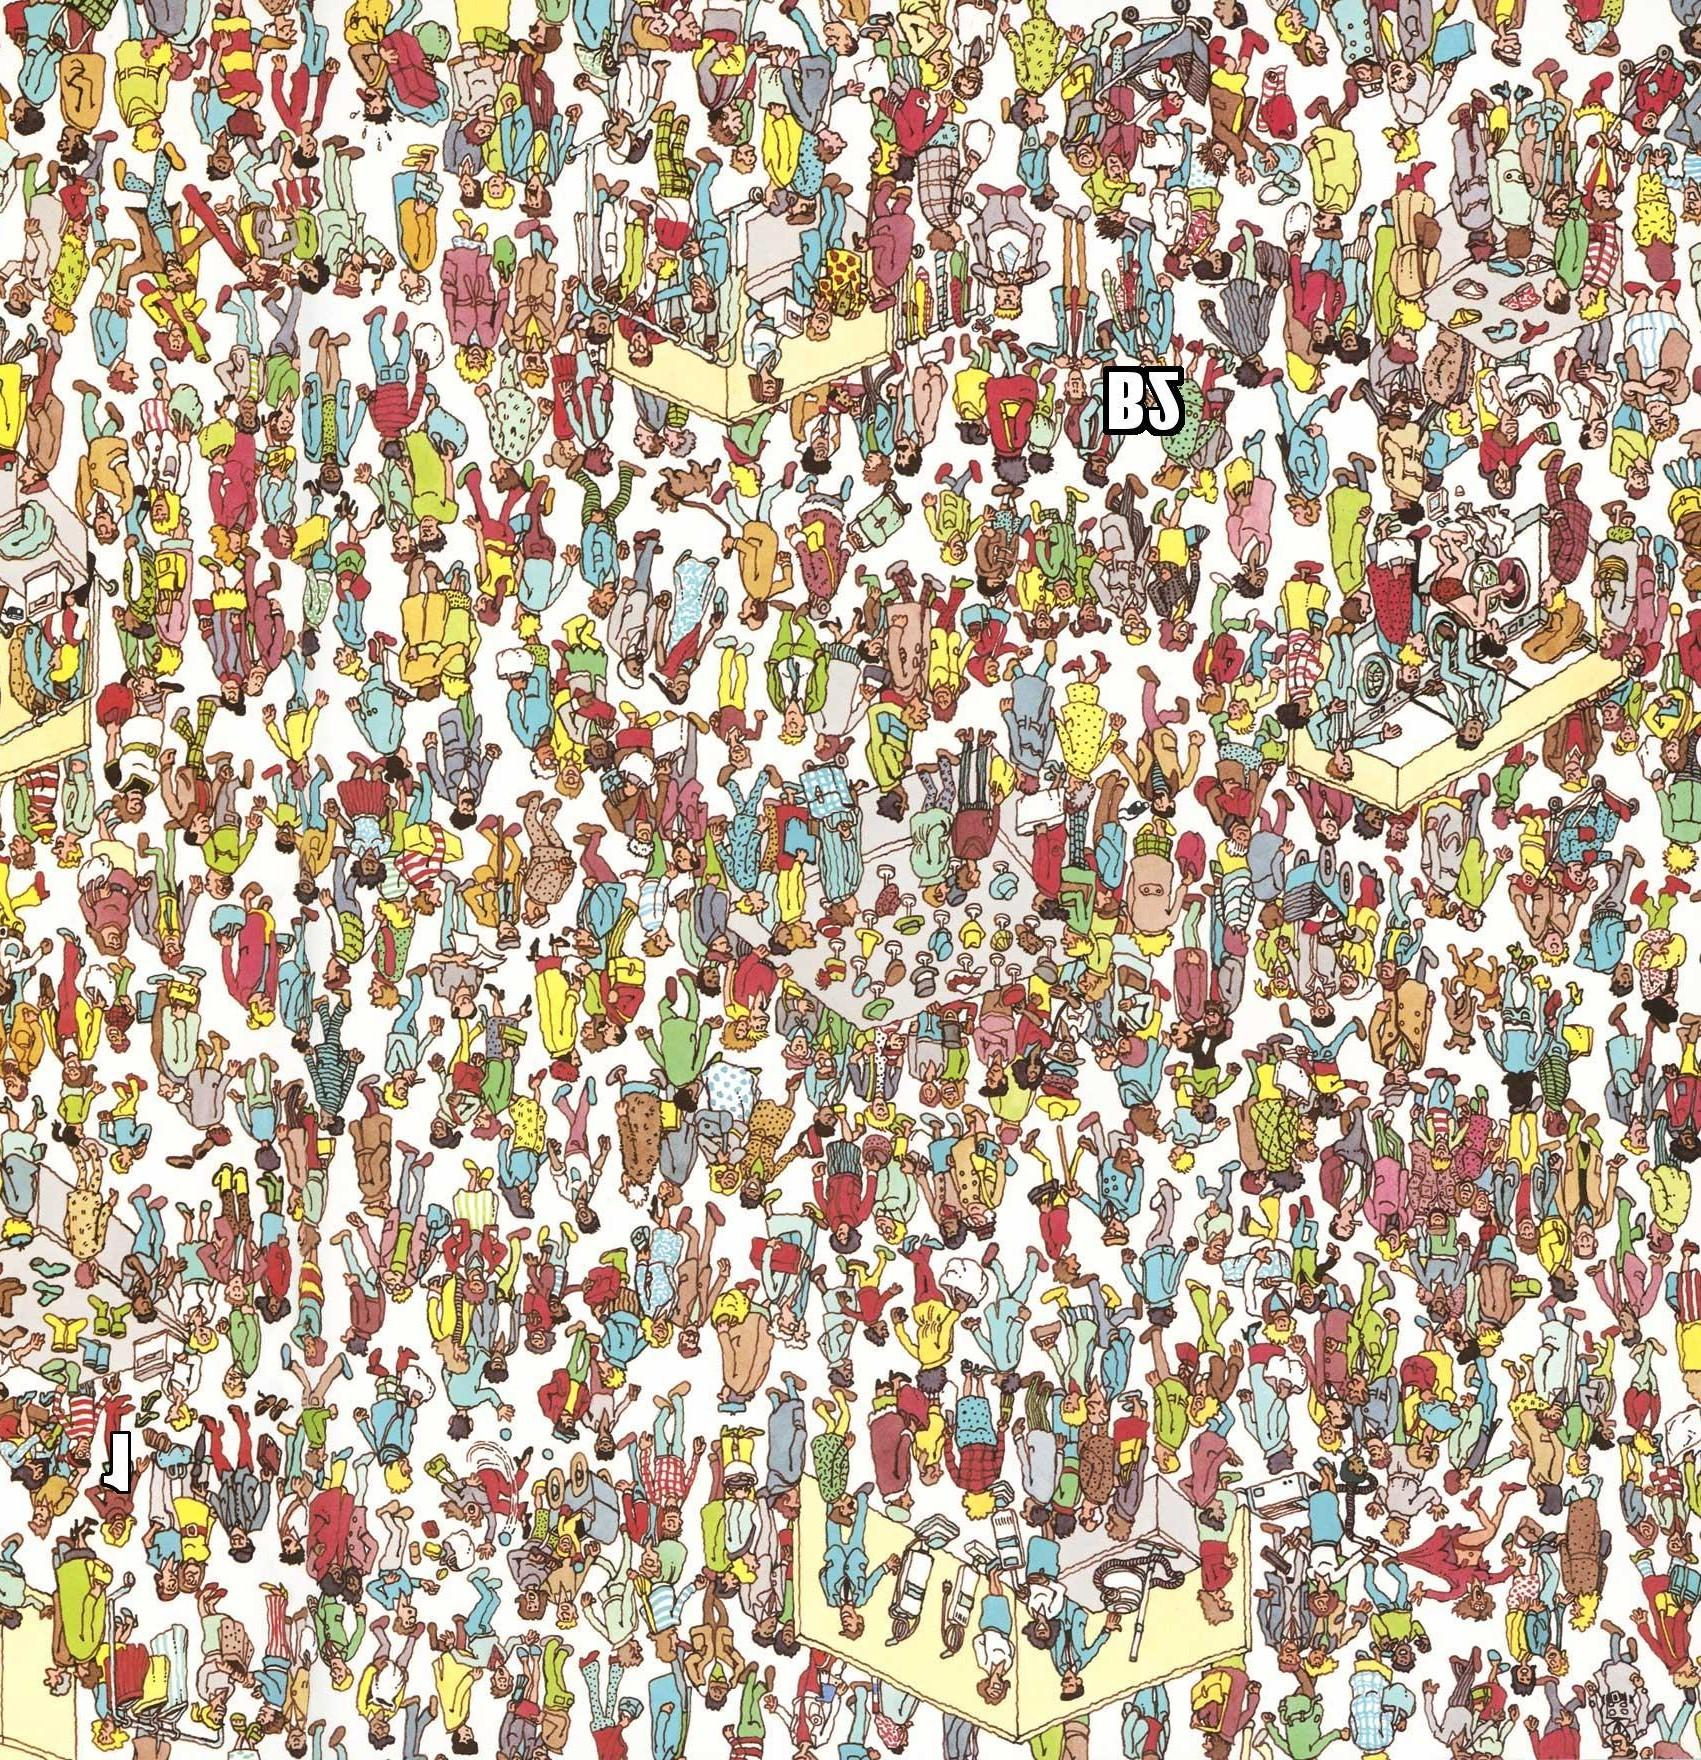waldos: (52, 1378, 123, 1474)
